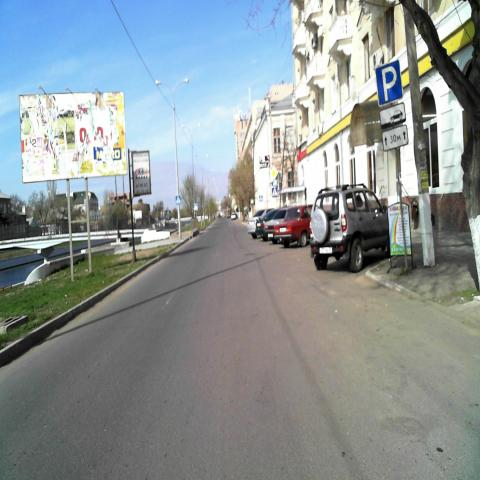8_6_4: (380, 103, 404, 125)
